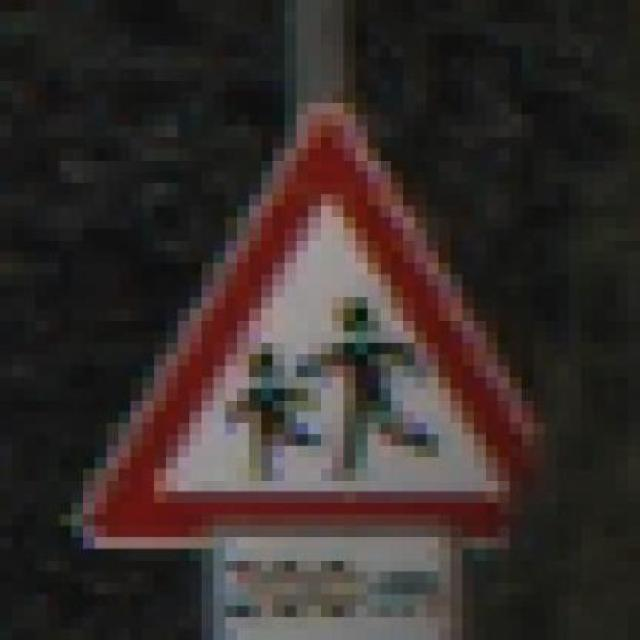Beware of children: (49, 96, 583, 564)
